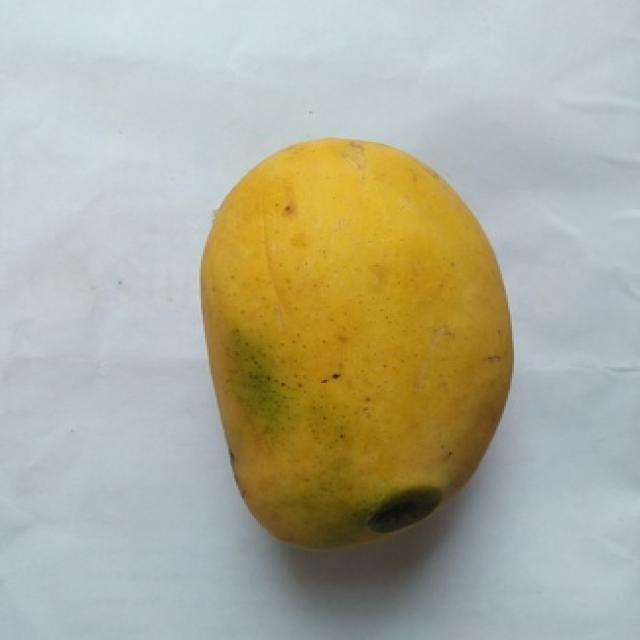Mango: (203, 139, 510, 547)
